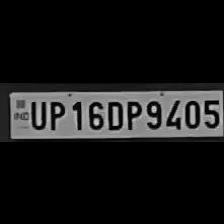0: (182, 96, 200, 128)
1: (66, 97, 84, 130)
4: (162, 96, 182, 128)
5: (201, 95, 221, 127)
6: (84, 96, 104, 130)
9: (142, 96, 162, 130)
D: (104, 96, 124, 130)
P: (44, 97, 66, 130), (123, 97, 141, 129)
U: (27, 97, 45, 129)
